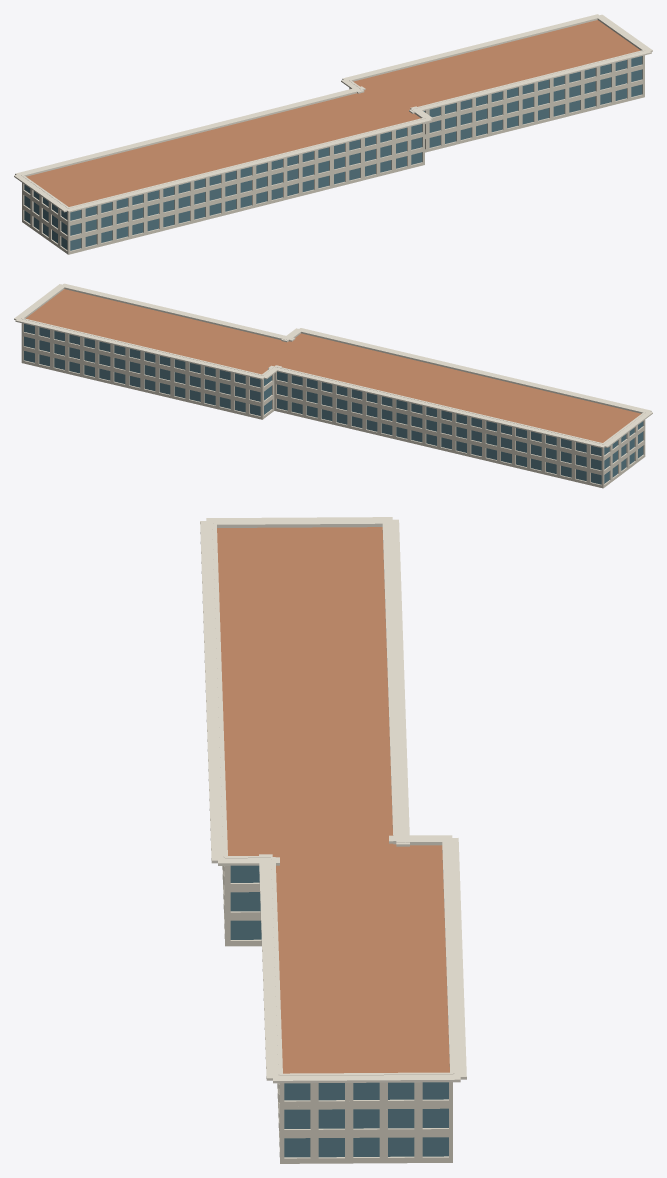
The model's file is xyiyuan.far.glb.
3 views of the same model, one above another, from view 1: azimuth 30°, elevation 25°; view 2: azimuth 150°, elevation 25°; view 3: azimuth 270°, elevation 25° (orthographic). The views are drawn at different scales.
Parts seen in each view (by area): view 1: roof, wall, glass, trim; view 2: roof, wall, glass, trim; view 3: roof, trim, glass, wall.
Part boxes in pixels (x1,y1,x2,y2): roof: [26, 20, 640, 206]; wall: [22, 55, 644, 254]; glass: [24, 56, 642, 250]; trim: [14, 14, 652, 212]; roof: [26, 289, 641, 442]; wall: [21, 323, 645, 488]; glass: [24, 324, 643, 484]; trim: [14, 283, 652, 448]; roof: [217, 527, 449, 1073]; trim: [200, 517, 466, 1083]; glass: [230, 865, 448, 1157]; wall: [222, 865, 452, 1163].
Bounding box in the file's own units: 147 × 10.94 × 29.4.
